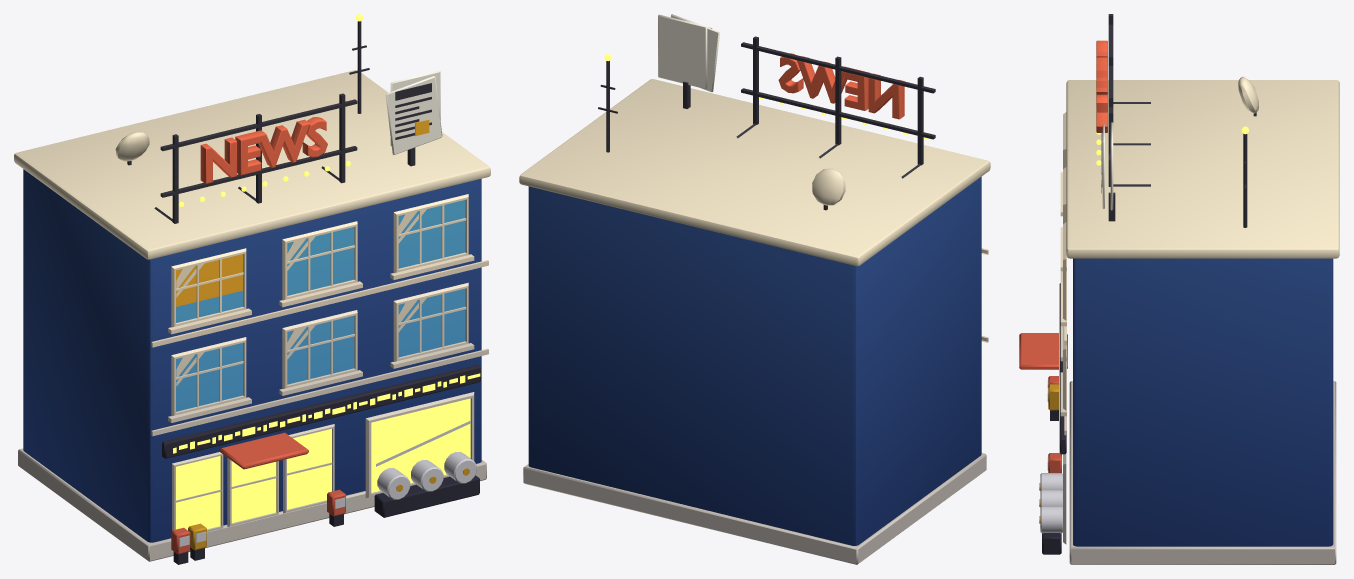
File: newsroom.glb
3 views of the same model, side by side, from view 1: azimuth 30°, elevation 25°; view 2: azimuth 150°, elevation 25°; view 3: azimuth 270°, elevation 25° (orthographic). The views are drawn at different scales.
Parts seen in each view (by area): view 1: newsroom; view 2: newsroom; view 3: newsroom.
Part boxes in pixels (x1,y1,x2,y2): newsroom: (14,14,490,564); newsroom: (519,14,990,564); newsroom: (1019,14,1339,564).
Size of the model in its own units: 12.4 by 14.18 by 9.85.
